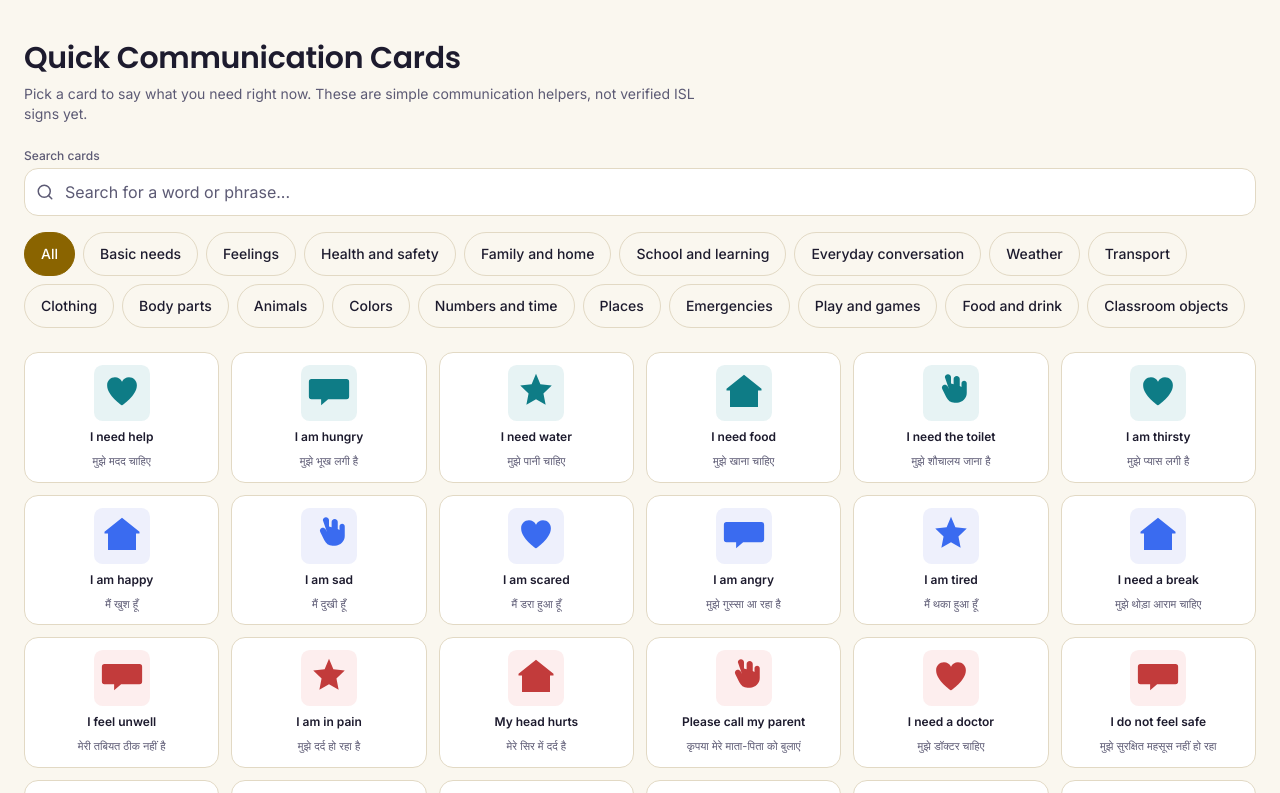
Test: CardsClient › filters cards by category
What coordinates should you click on to do the following:
click the button "Feelings"
I would click on:
 (251, 254)
Its box is [206,232,296,276].
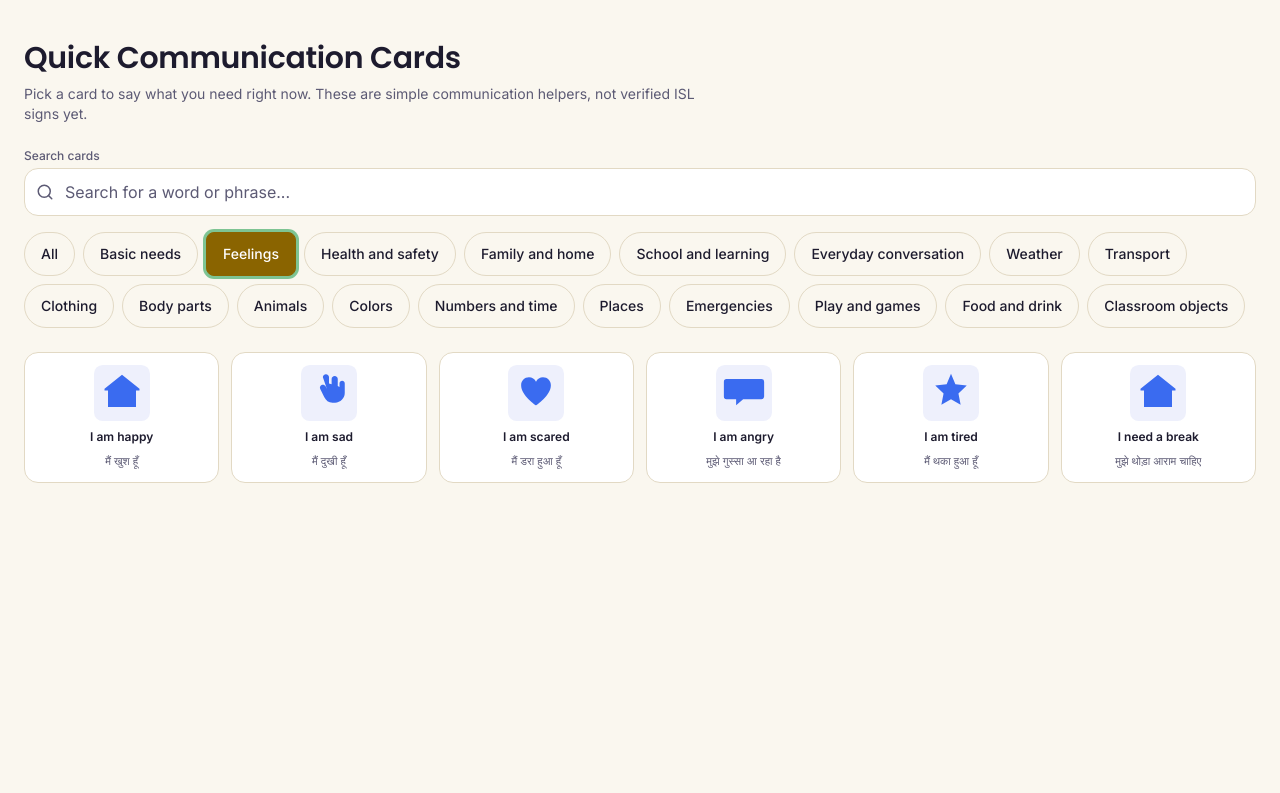
Expected: the text "I am happy" is shown, [90,429,153,445]
Expected: the button "I need help" is gone
